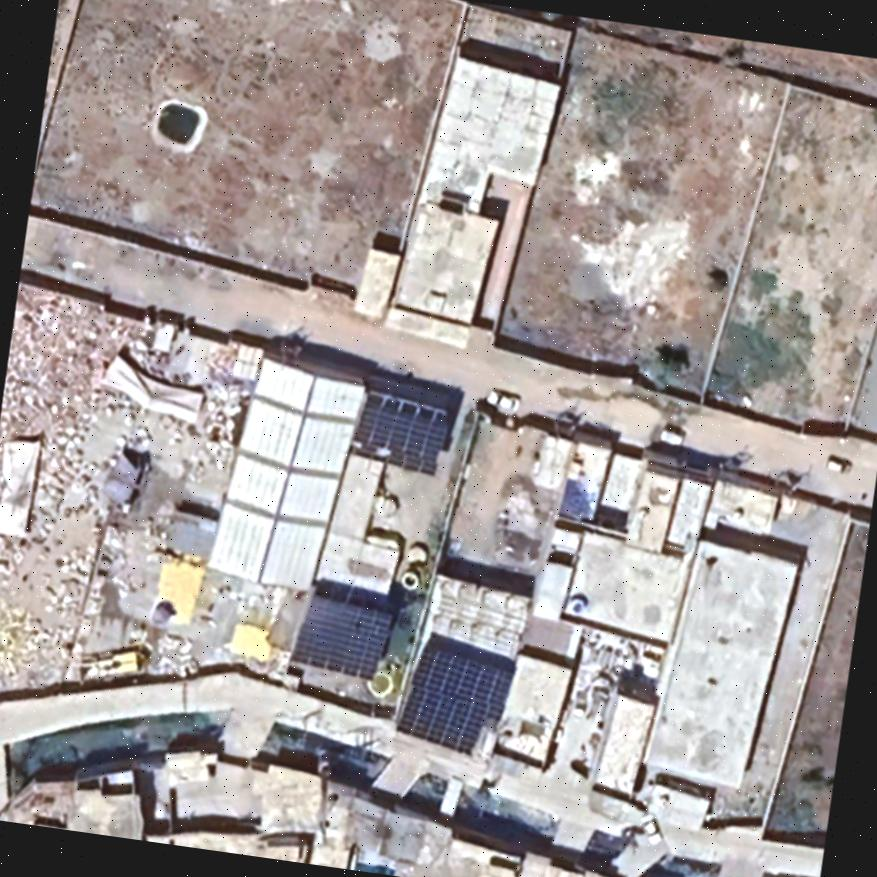Solarpanel: (392, 632, 518, 764), (287, 584, 401, 683), (348, 392, 455, 474)
